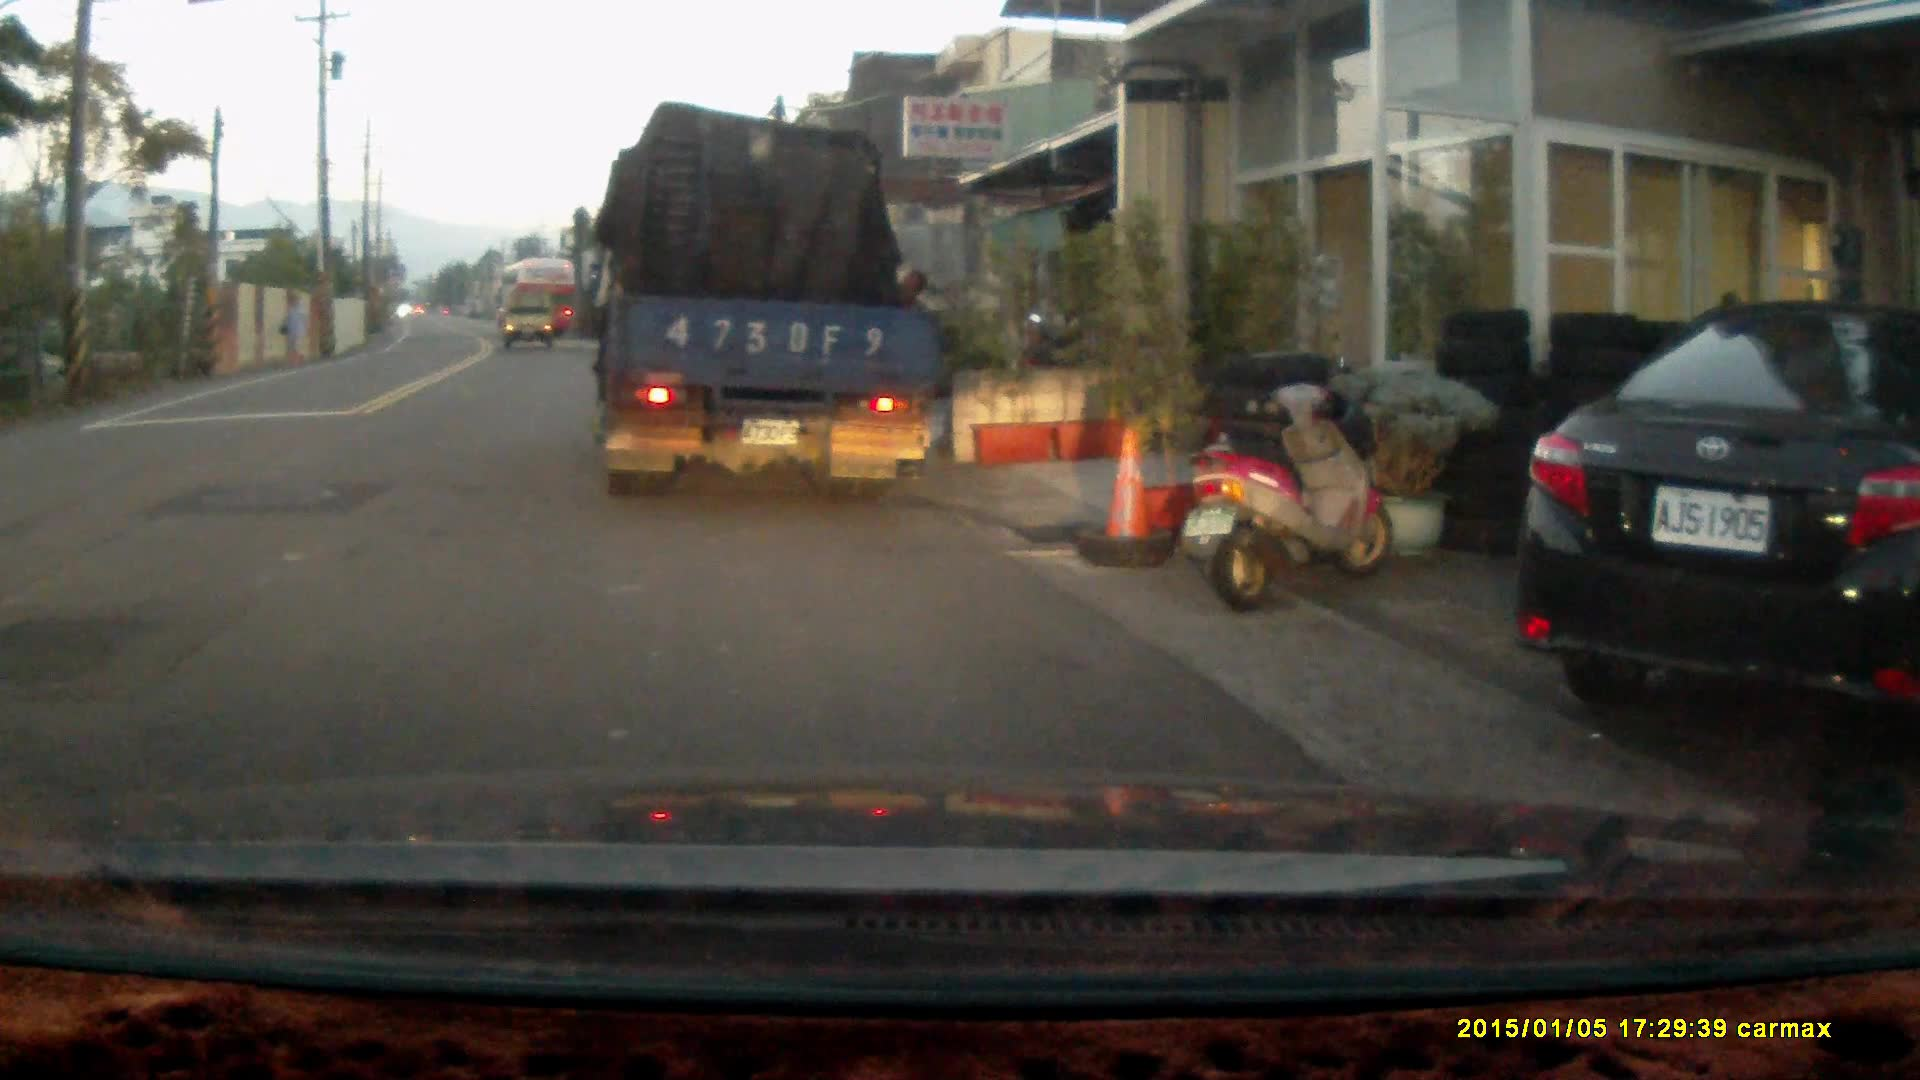pedestrian: (277, 289, 306, 362)
vehicle: (1525, 293, 1920, 753), (589, 114, 949, 503), (508, 254, 581, 338), (506, 297, 556, 353)
